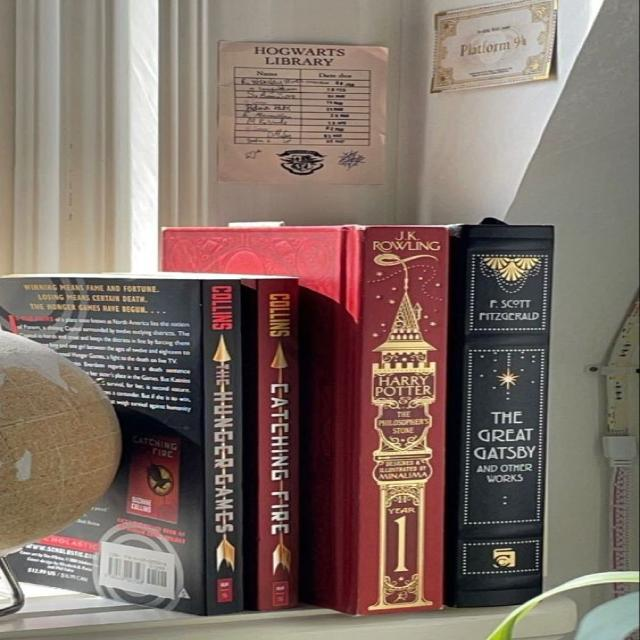book: (344, 228, 444, 610), (452, 226, 548, 609), (250, 280, 310, 609), (195, 282, 246, 614)
